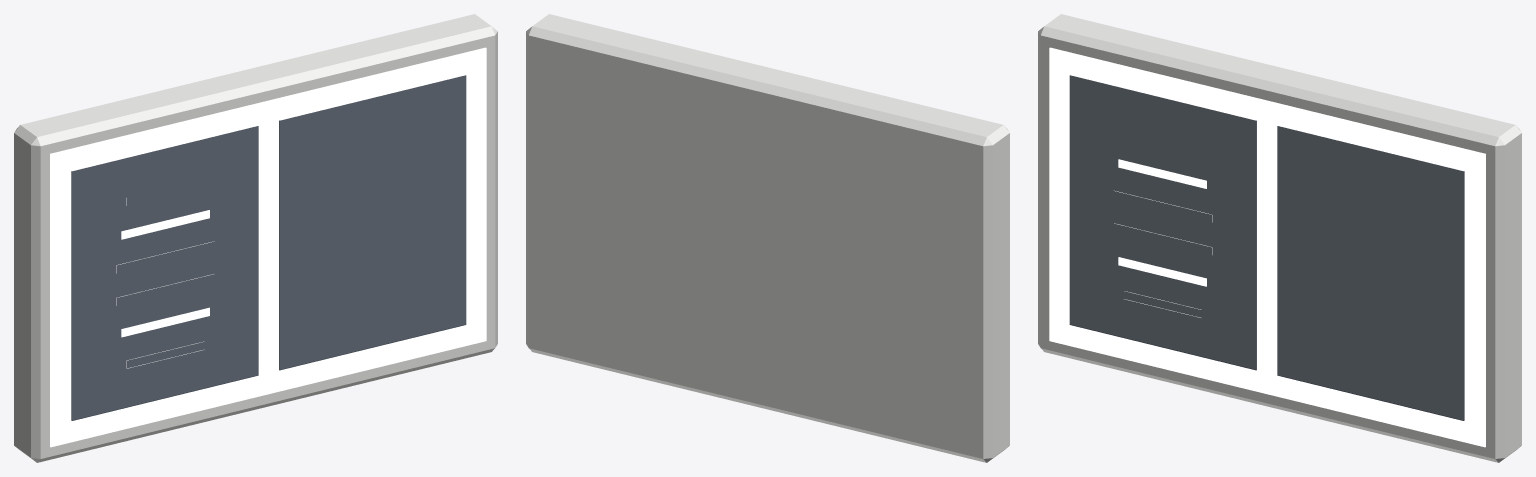
Rendered from xray_lightbox.glb.
3 views of the same model, side by side, from view 1: azimuth 30°, elevation 25°; view 2: azimuth 150°, elevation 25°; view 3: azimuth 330°, elevation 25° (orthographic).
Parts seen in each view (by area): view 1: xray_lightbox; view 2: xray_lightbox; view 3: xray_lightbox.
Part boxes in pixels (left/top/right/bottom): xray_lightbox: left=14, top=14, right=497, bottom=462; xray_lightbox: left=526, top=14, right=1009, bottom=462; xray_lightbox: left=1038, top=14, right=1521, bottom=462.
Size of the model in its own units: 0.9 by 0.6 by 0.0855.
